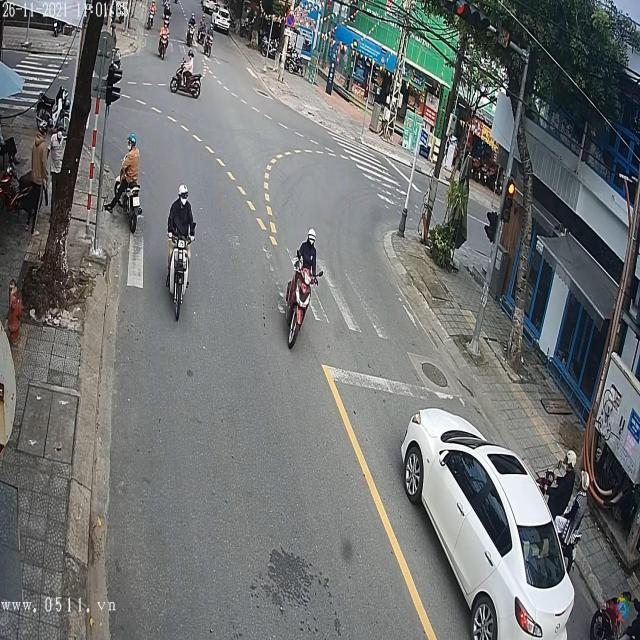car: (398, 414, 587, 638)
motorcycle: (285, 261, 319, 352), (165, 228, 195, 325), (114, 154, 144, 236), (171, 58, 202, 98), (157, 33, 171, 63)
